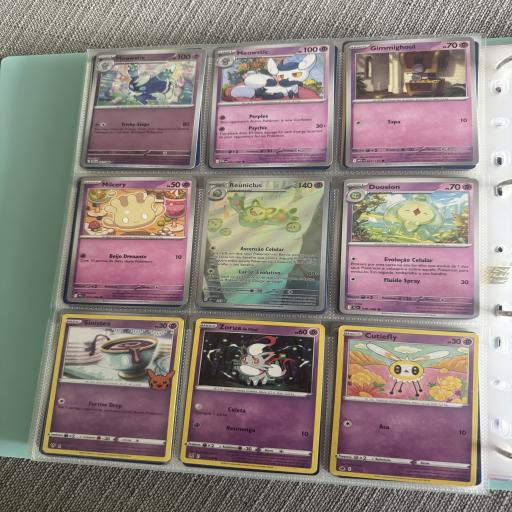card: (329, 325, 485, 487), (180, 313, 329, 474), (42, 308, 184, 462), (339, 174, 485, 319), (340, 36, 480, 171), (196, 173, 330, 311), (66, 174, 197, 305), (207, 41, 336, 168), (80, 47, 206, 169)
